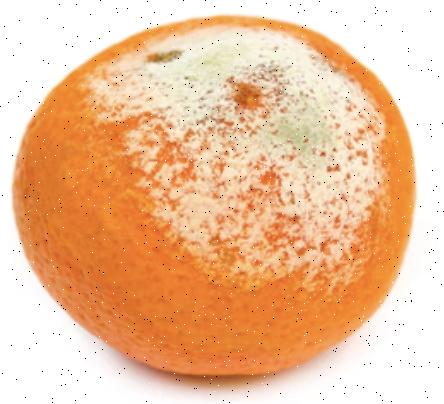Orange Rotten: (12, 6, 425, 391)
